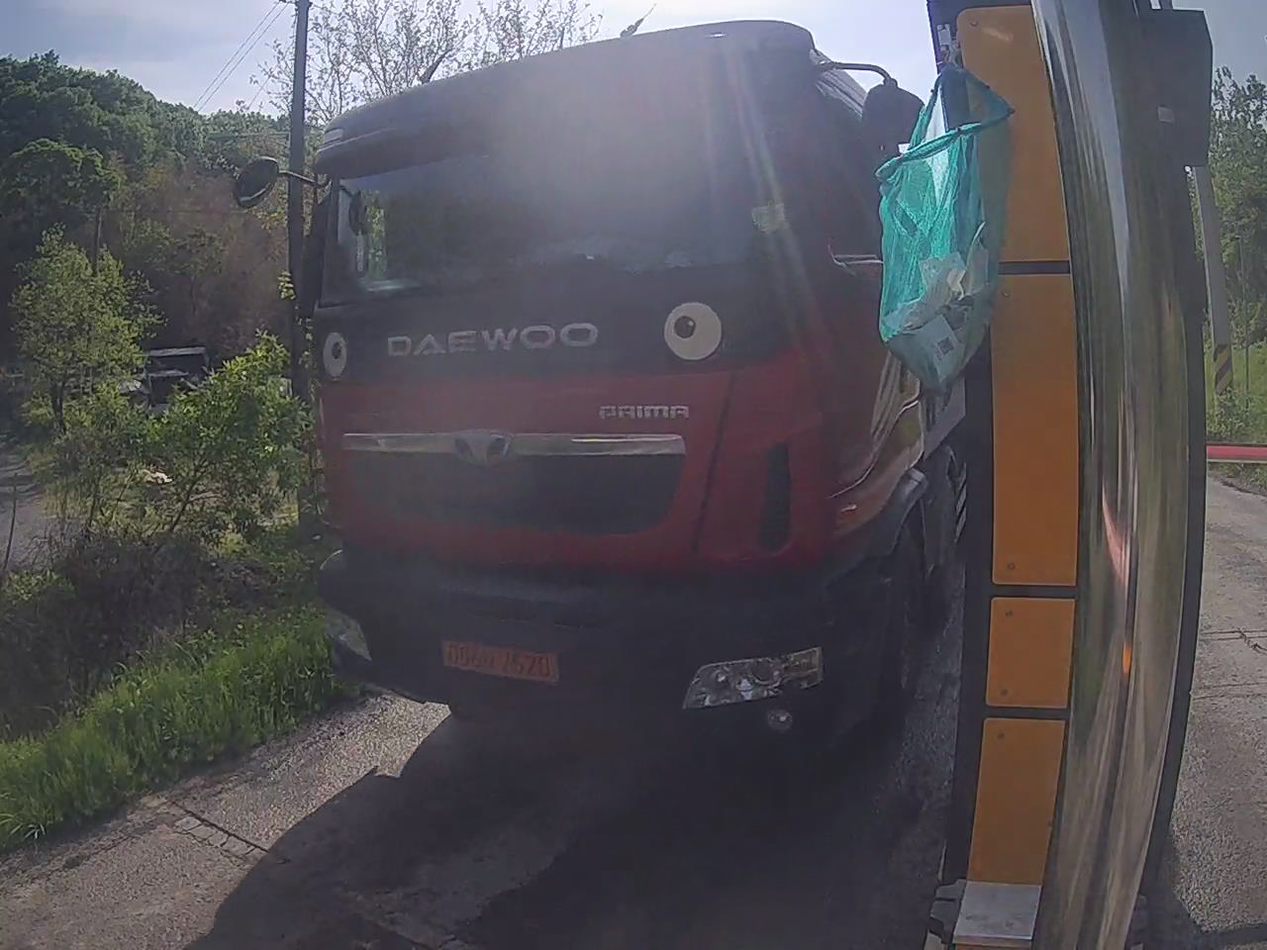license_plate: (443, 642, 557, 685)
truck: (302, 22, 963, 733)
